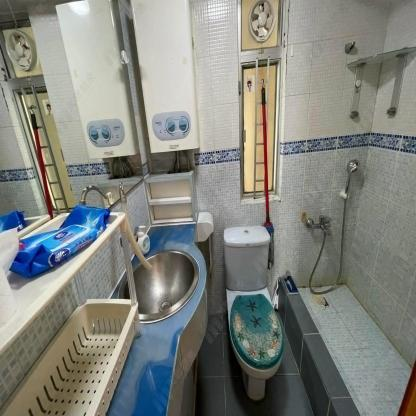Exhaust Fan: (240, 0, 280, 51)
Toilet: (223, 224, 284, 400)
Toilet Sink: (117, 230, 207, 333)
Water Cubicle: (277, 275, 414, 415)
Water Heater: (130, 0, 200, 154)
